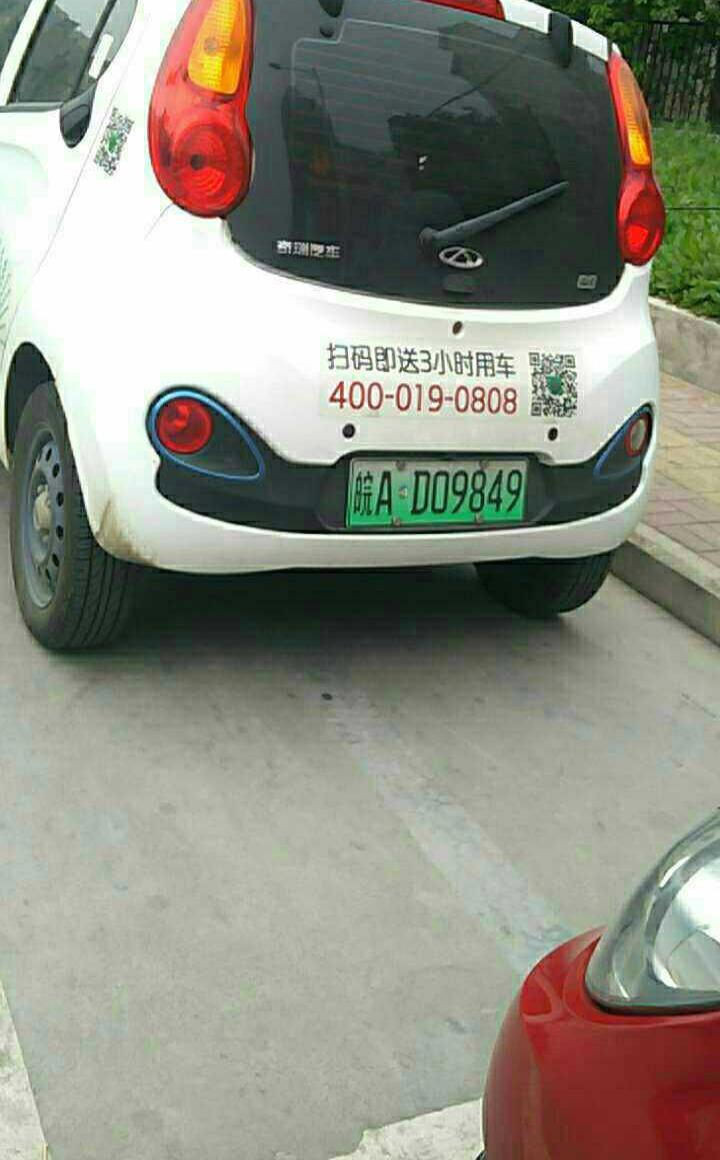car_id: (341, 458, 530, 526)
